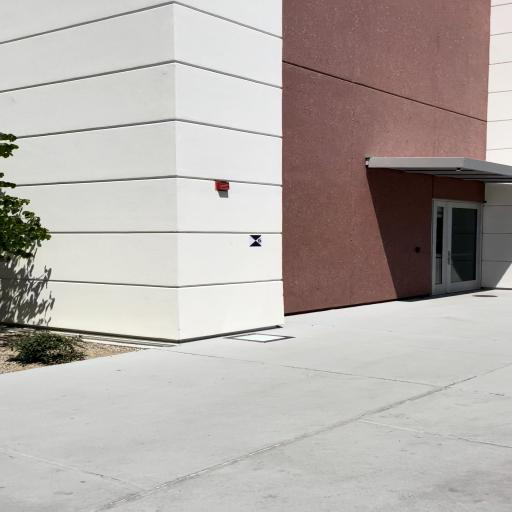target6: (249, 235, 262, 247)
